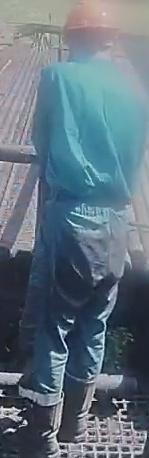helmet: (62, 1, 121, 37)
vest: (30, 58, 141, 221)
